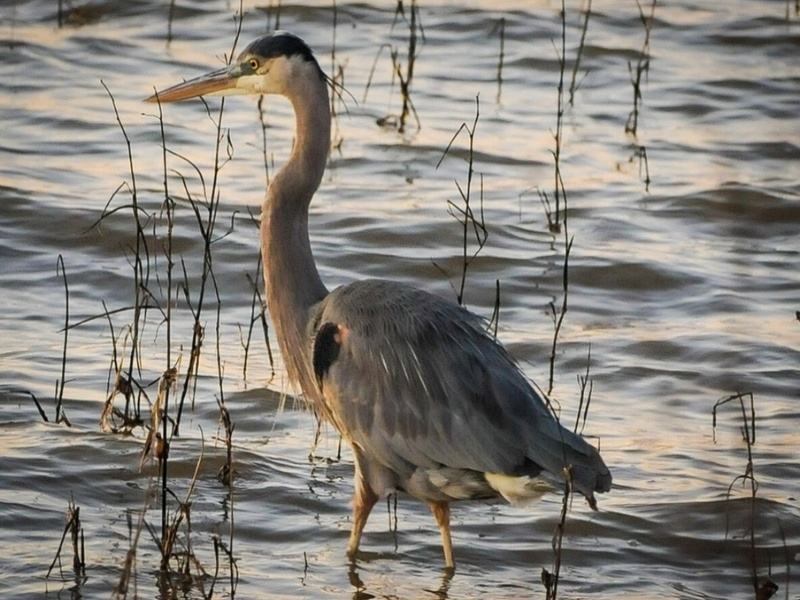heron: (142, 27, 625, 586)
